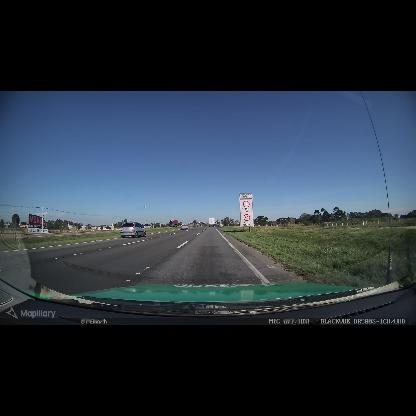I-SA: (239, 193, 252, 199)
O-MP: (223, 224, 224, 227)
R-19: (239, 199, 254, 227)
